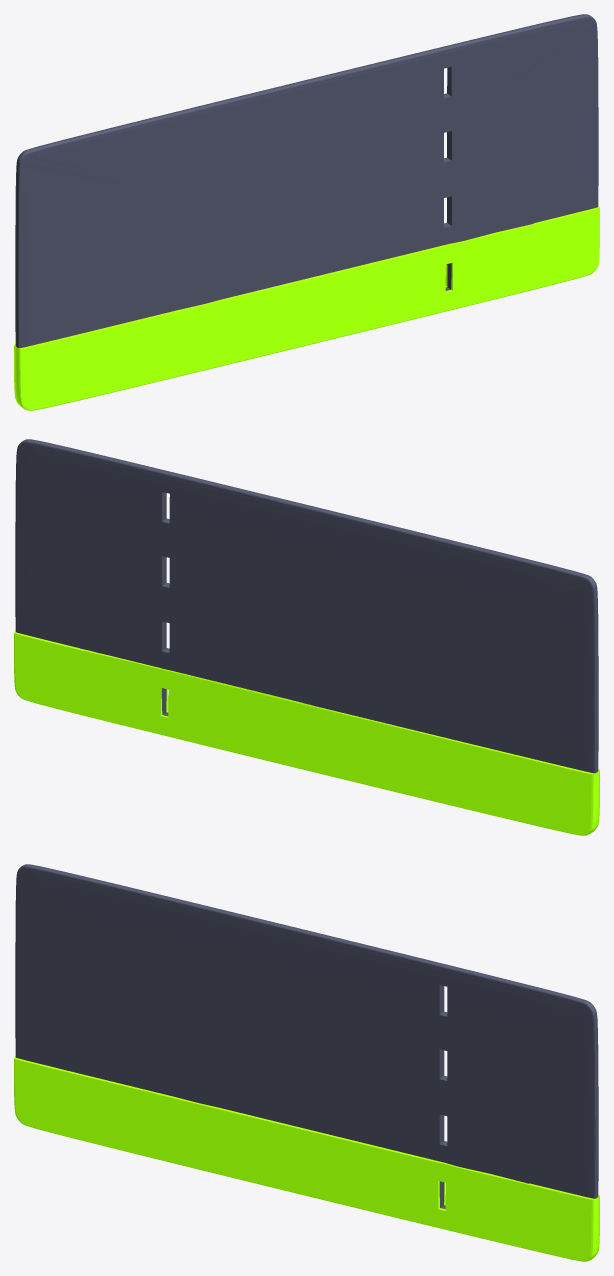
The model's file is Ticket.fbx.
3 renders of one model, top to bottom at view 1: azimuth 30°, elevation 25°; view 2: azimuth 150°, elevation 25°; view 3: azimuth 330°, elevation 25°, orthographic.
Visible parts, largest first — view 1: ticket, color; view 2: ticket, color; view 3: ticket, color.
Part boxes in pixels (x1,y1,x2,y2): ticket: (15,14,598,348); color: (14,206,599,410); ticket: (15,439,598,773); color: (14,631,599,835); ticket: (15,864,598,1208); color: (14,1057,599,1261).
Bounding box in the file's own units: 151 × 65.02 × 3.68.
